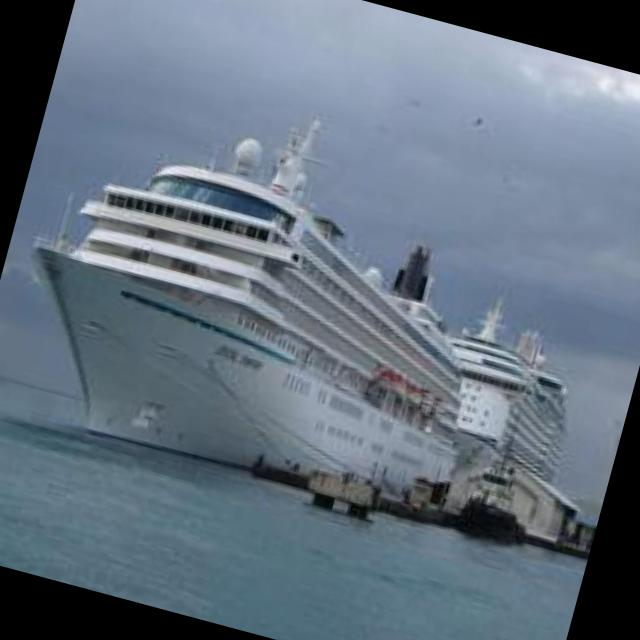boat: (0, 58, 531, 531)
